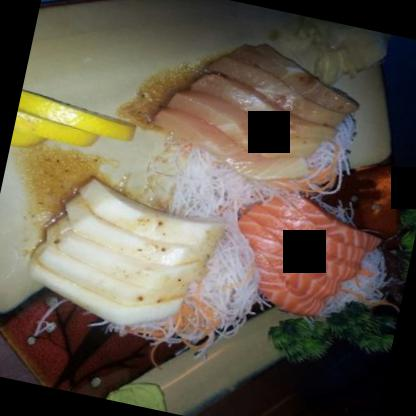salmon: (219, 186, 375, 330)
